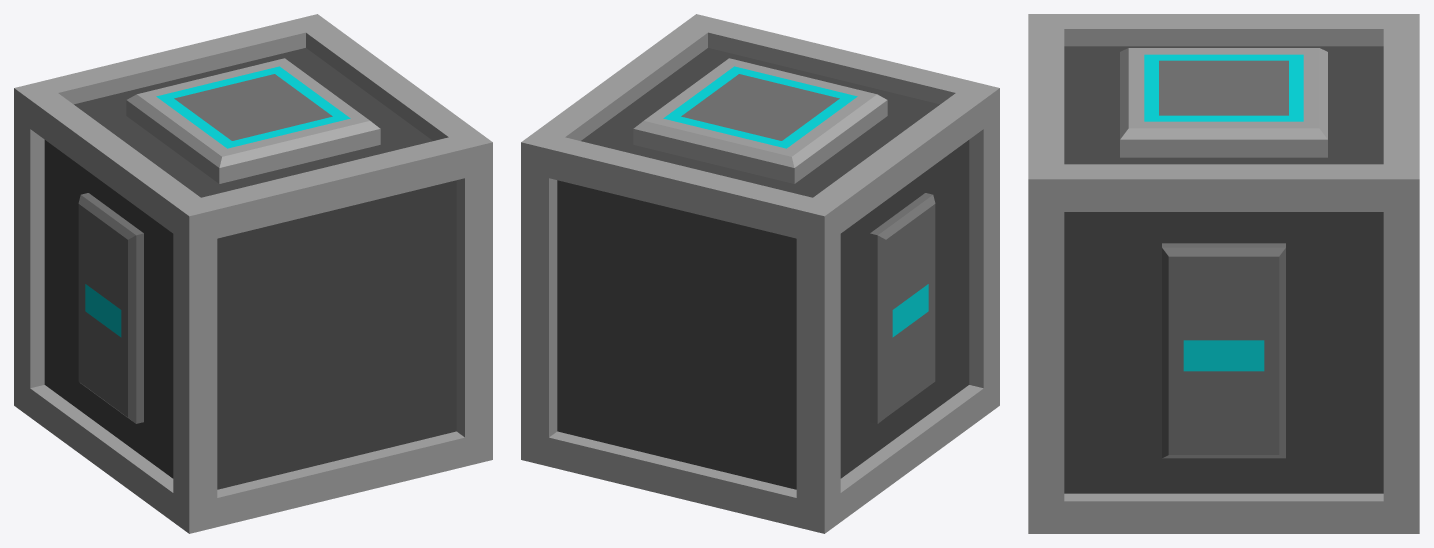
The model's file is caisse 3.fbx.
3 renders of one model, left to right at view 1: azimuth 30°, elevation 25°; view 2: azimuth 150°, elevation 25°; view 3: azimuth 270°, elevation 25°, orthographic. The views are drawn at different scales.
Visible parts, largest first — view 1: caisse; view 2: caisse; view 3: caisse.
Boxes of the visible parts, x1=… form: caisse: x1=14, y1=14, x2=492, y2=533; caisse: x1=521, y1=14, x2=999, y2=533; caisse: x1=1028, y1=14, x2=1419, y2=533.
Size of the model in its own units: 1 by 1.02 by 1.
